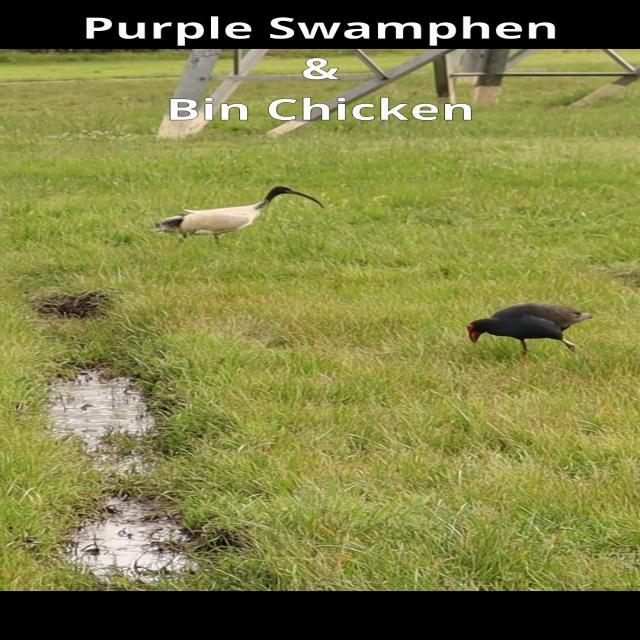Birds-Ibis: (148, 184, 330, 254)
Birds-Other: (464, 298, 598, 364)
